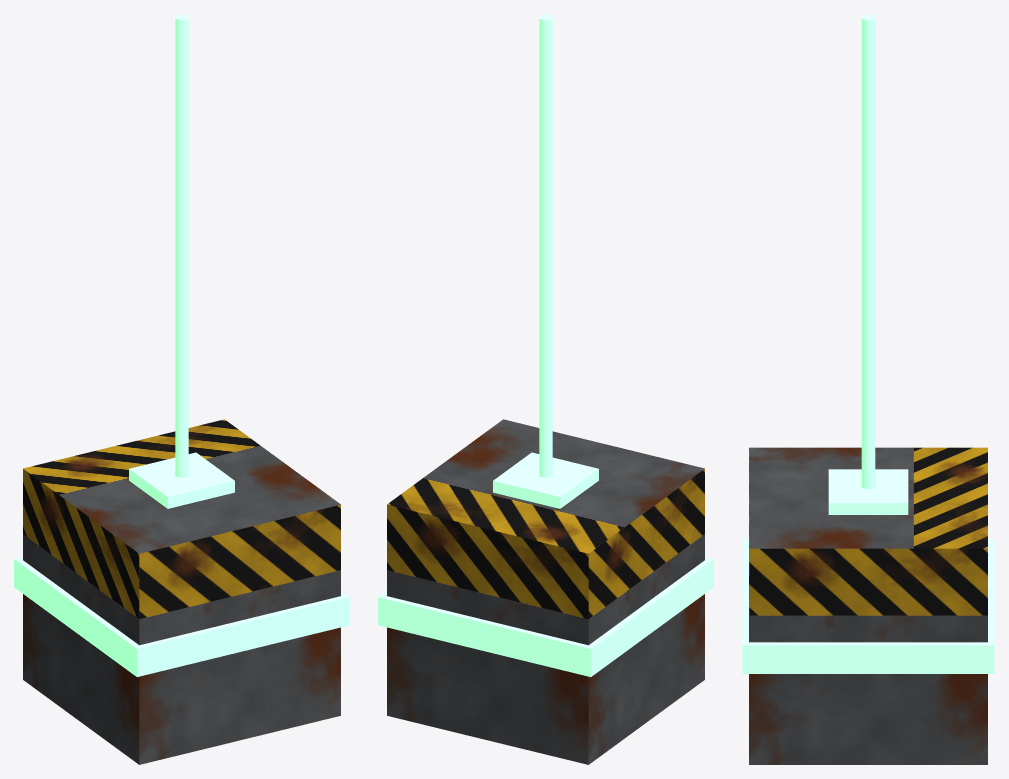
Rendered from loot_health.glb.
3 renders of one model, left to right at view 1: azimuth 30°, elevation 25°; view 2: azimuth 150°, elevation 25°; view 3: azimuth 270°, elevation 25°, orthographic. The views are drawn at different scales.
Parts seen in each view (by area): view 1: Loot; view 2: Loot; view 3: Loot.
Boxes of the visible parts, box(x1,y1,x2,y2) form: Loot: box(14, 14, 349, 764); Loot: box(378, 14, 713, 764); Loot: box(742, 14, 994, 764).
Bounding box in the file's own units: 0.95 × 2.9 × 0.95.
2 materials, 1 textured.
